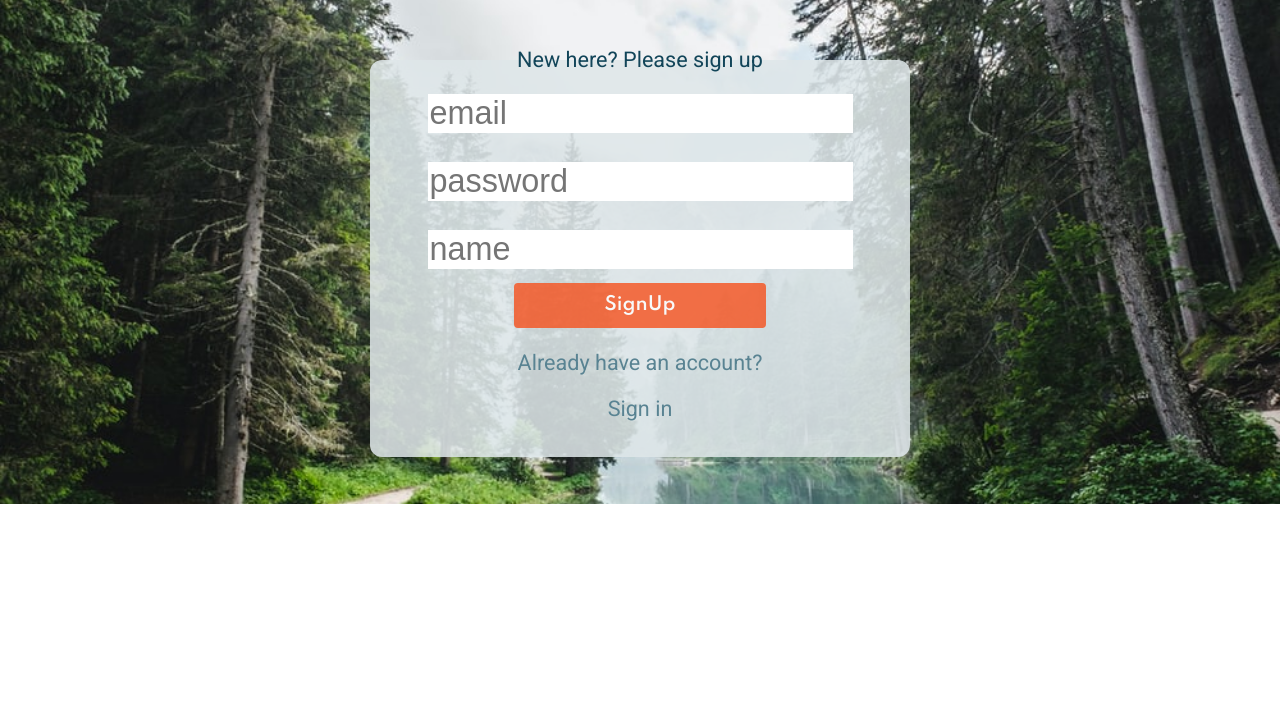
Test case: should render a new user signing up
Expected: the password field with placeholder "password" is shown, [428,162,852,201]
Expected: the field with placeholder "name" is shown, [428,230,852,269]
Type "fakeUser@email.com" into the field with placeholder "email".
click(640, 114); type("fakeUser@email.com")  # box [428,94,852,133]
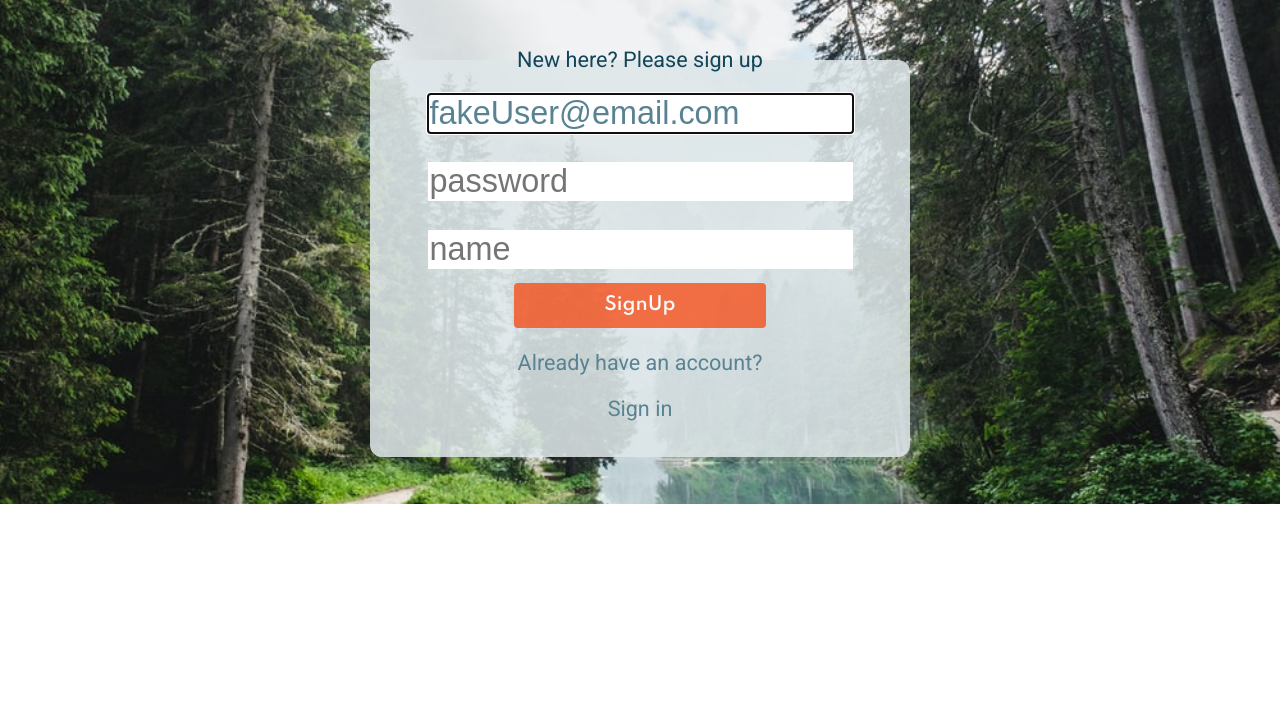
Type "fakepassword" into the password field with placeholder "password".
click(640, 182); type("fakepassword")  # box [428,162,852,201]
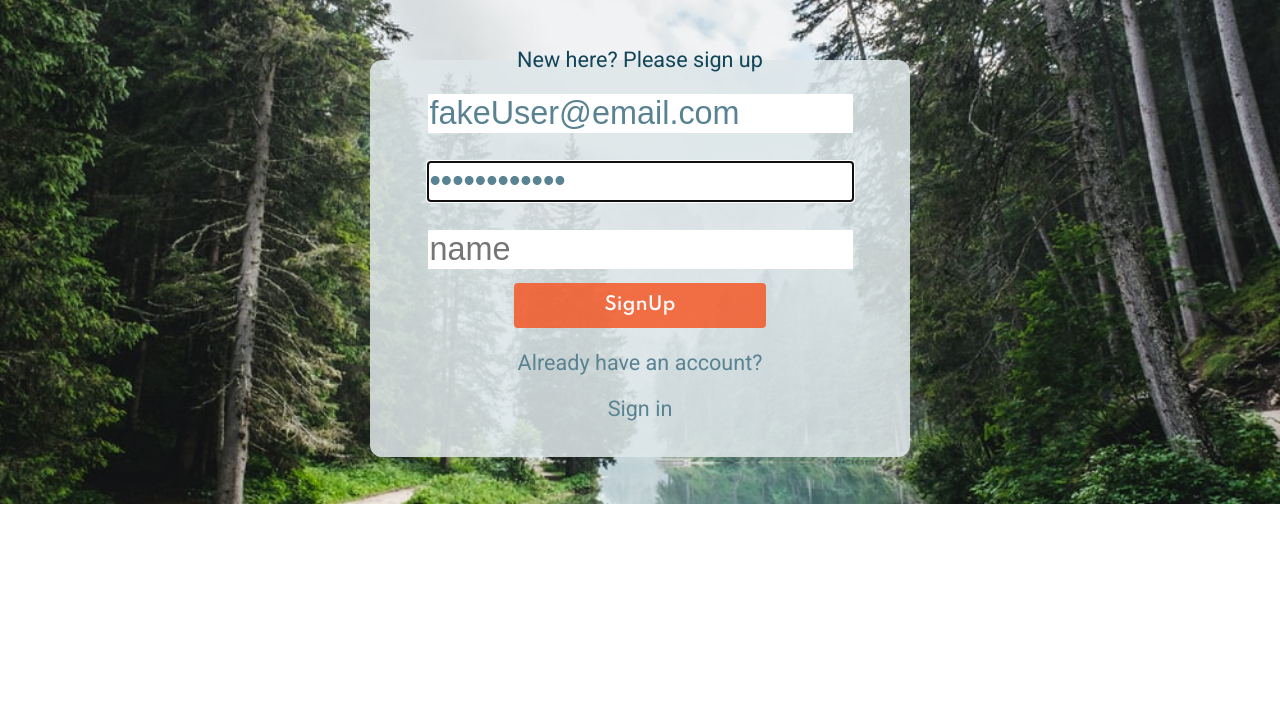
Type "fake-user" into the field with placeholder "name".
click(640, 249); type("fake-user")  # box [428,230,852,269]
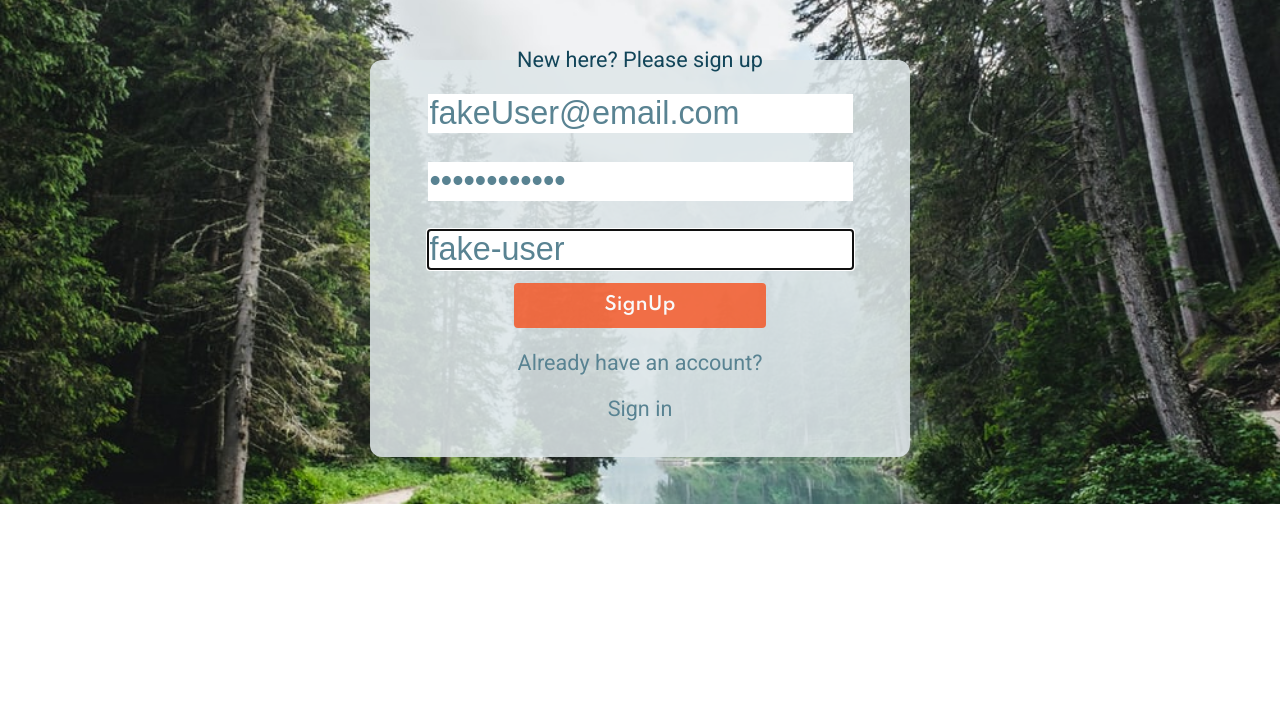
Click the button "SignUp".
click(640, 306)  # box [514,283,766,328]
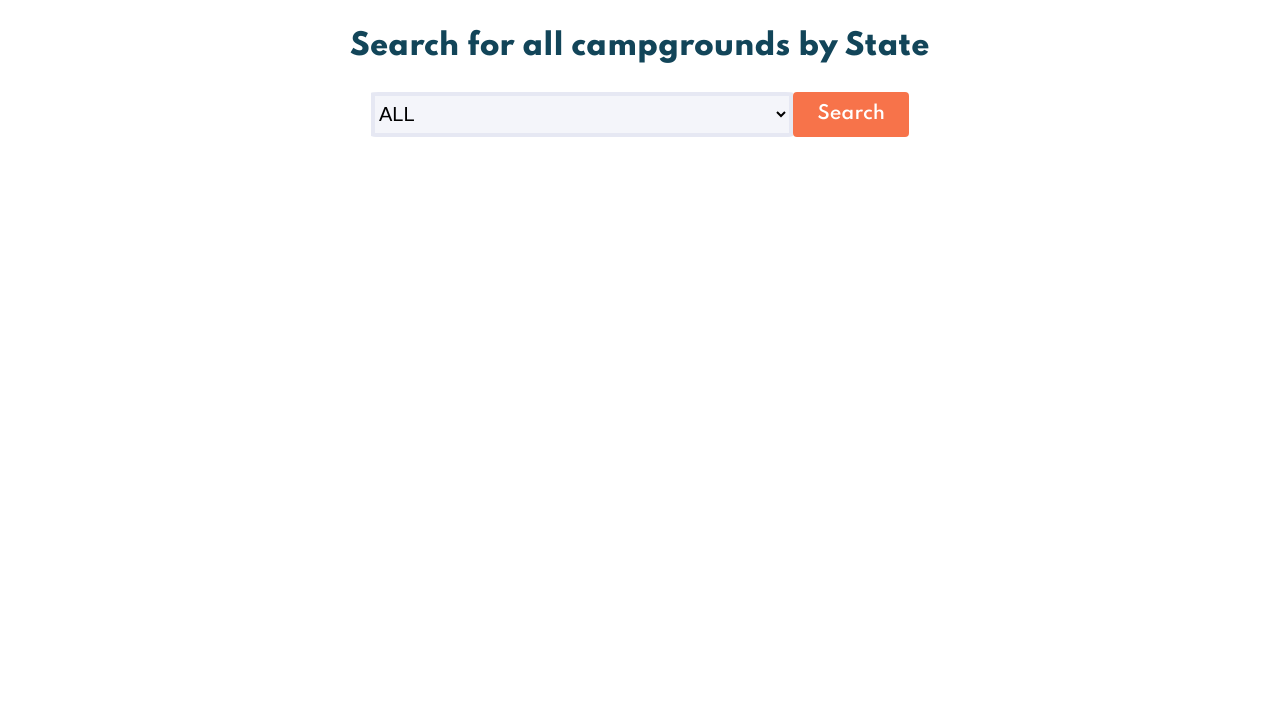
Result: the heading "Search for all campgrounds by State" is shown at [350,30,930,62]
